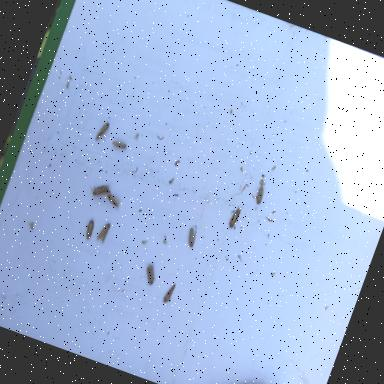pbw: (96, 219, 114, 244), (226, 206, 243, 232), (90, 180, 111, 201), (142, 262, 160, 286), (184, 225, 200, 248), (96, 120, 112, 142), (162, 281, 178, 303), (252, 182, 266, 205), (82, 220, 96, 241), (106, 195, 122, 209), (112, 138, 128, 151)
